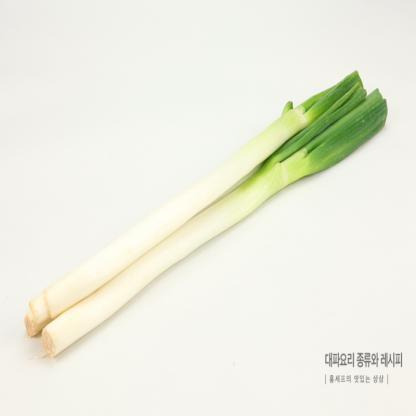green onion: (26, 73, 387, 364)
